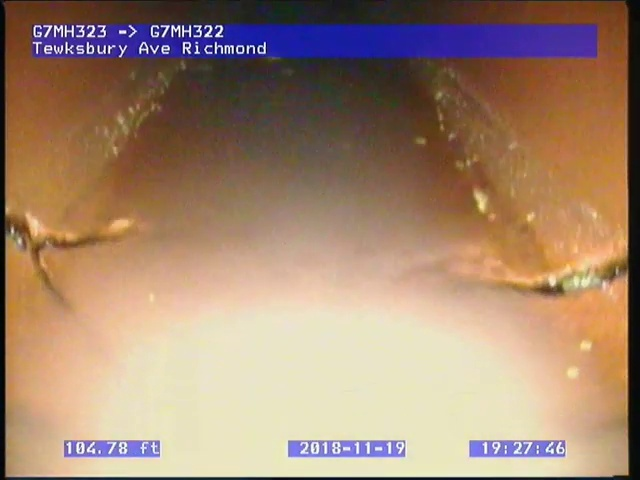crack: (6, 205, 133, 313), (501, 251, 628, 301)
